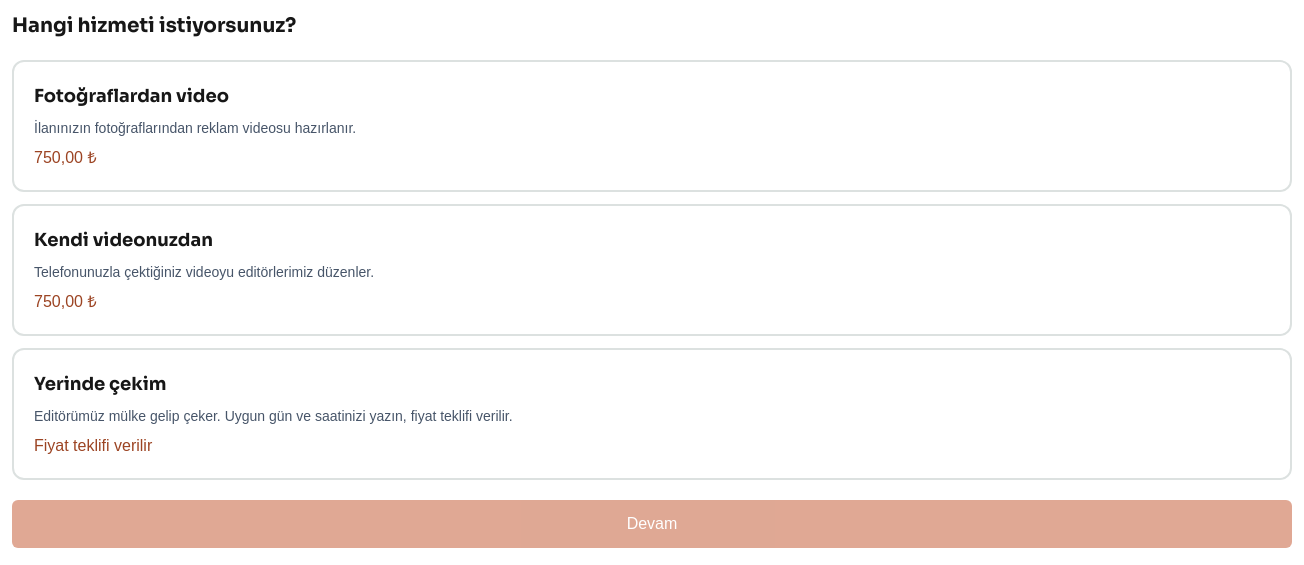
Test case: OrderWizard › yerinde çekim seçilince 'Size uygun gün ve saat' alanını gösterir
The width and height of the screenshot is (1304, 565).
Click the radio button labelled "Yerinde çekim" at (652, 414), box [12,348,1292,480]
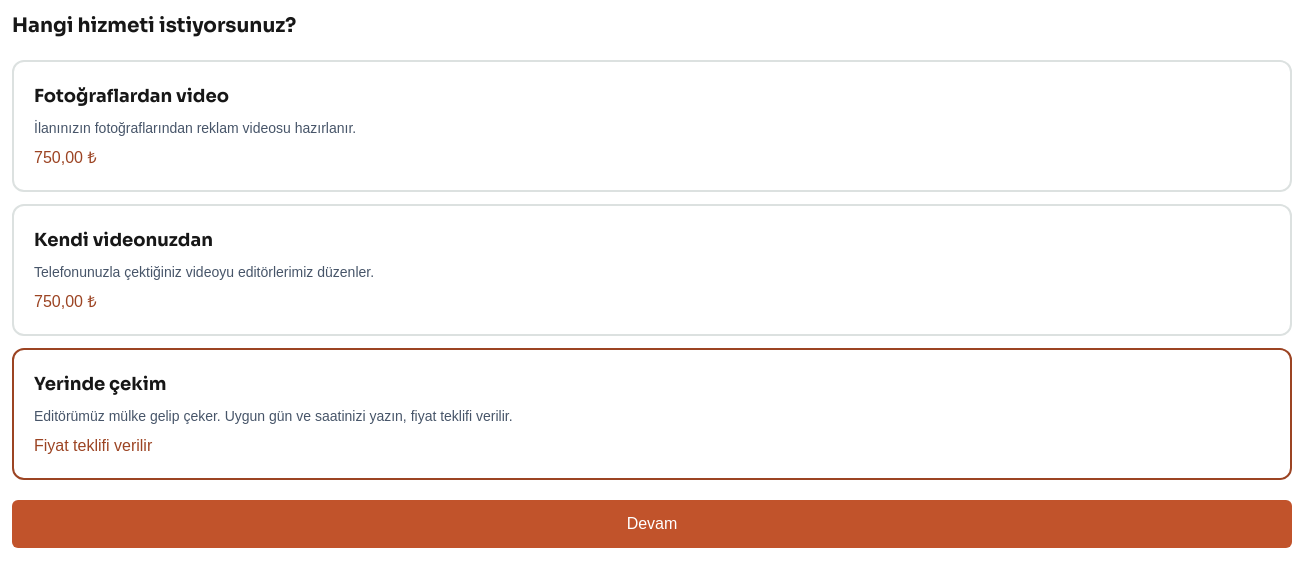
Click the button "Devam" at (652, 524), box [12,500,1292,548]
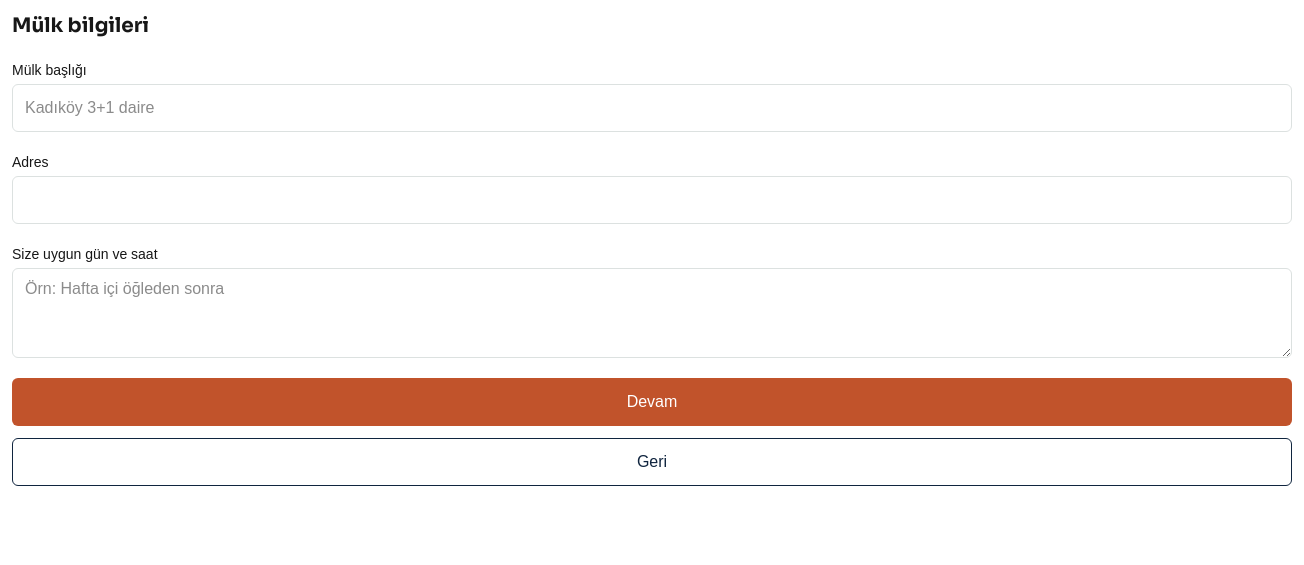
Expected: the text box labelled "Size uygun gün ve saat" is shown, [12,268,1292,358]
